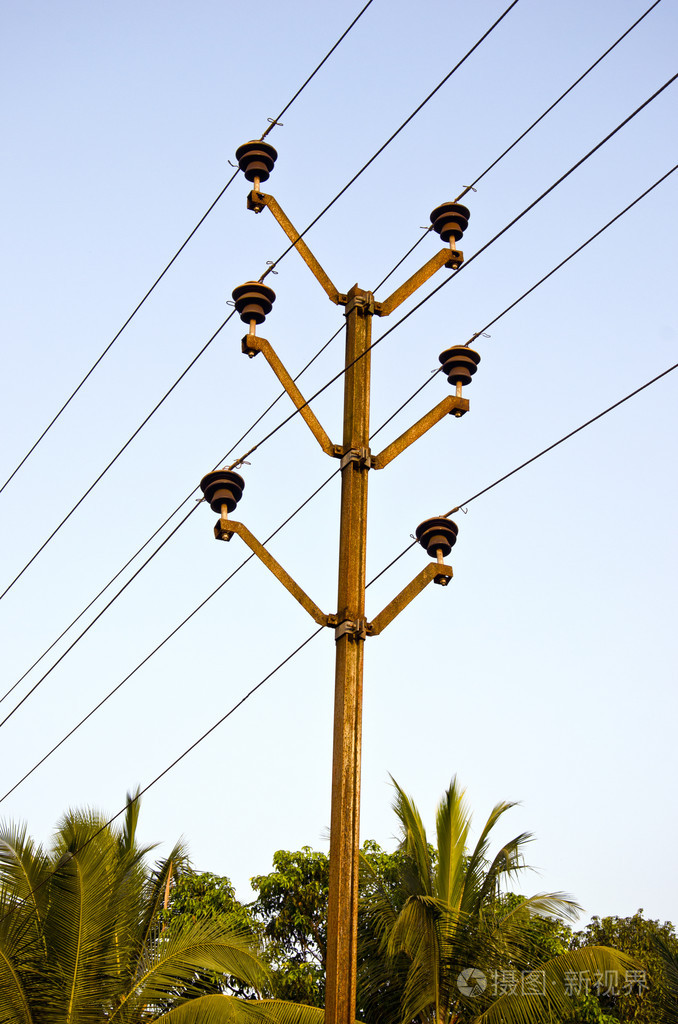insulator: (231, 278, 277, 329), (198, 467, 246, 513), (232, 139, 279, 184), (413, 518, 462, 557), (435, 347, 484, 384), (428, 203, 471, 239)
